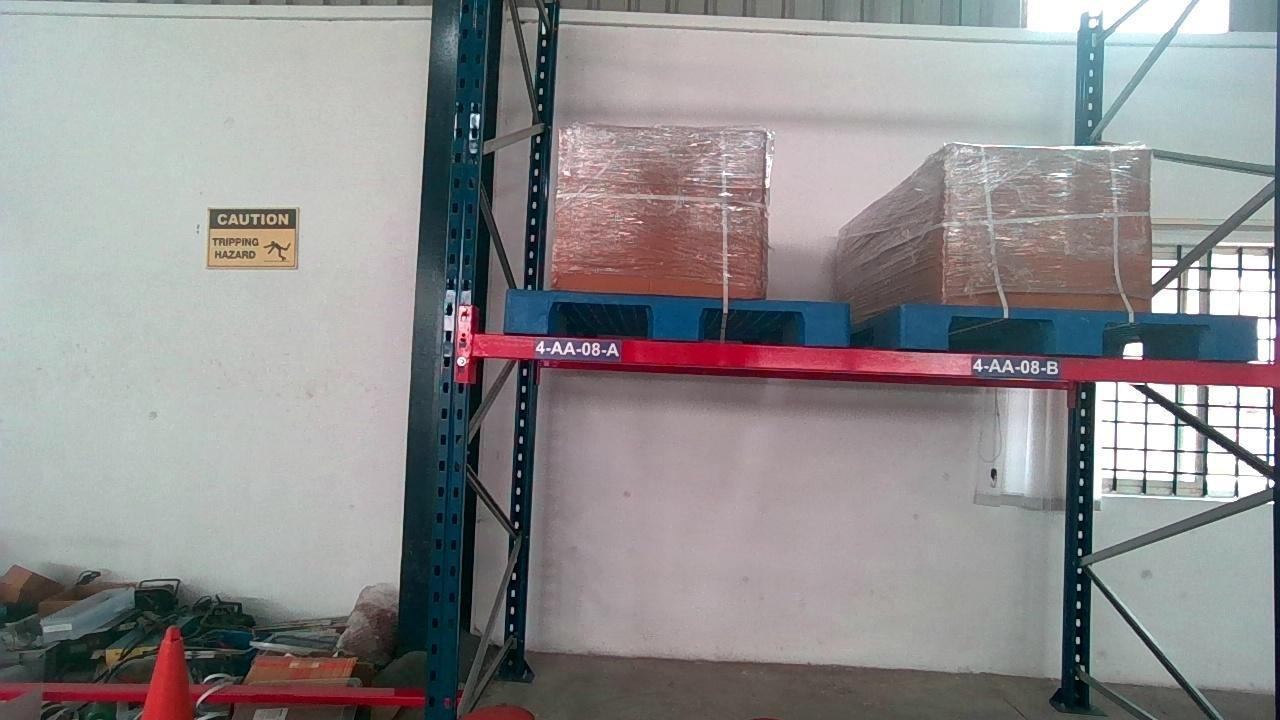h_rack: (458, 332, 1280, 384)
small_pallet: (901, 307, 1255, 355), (505, 294, 847, 340)
